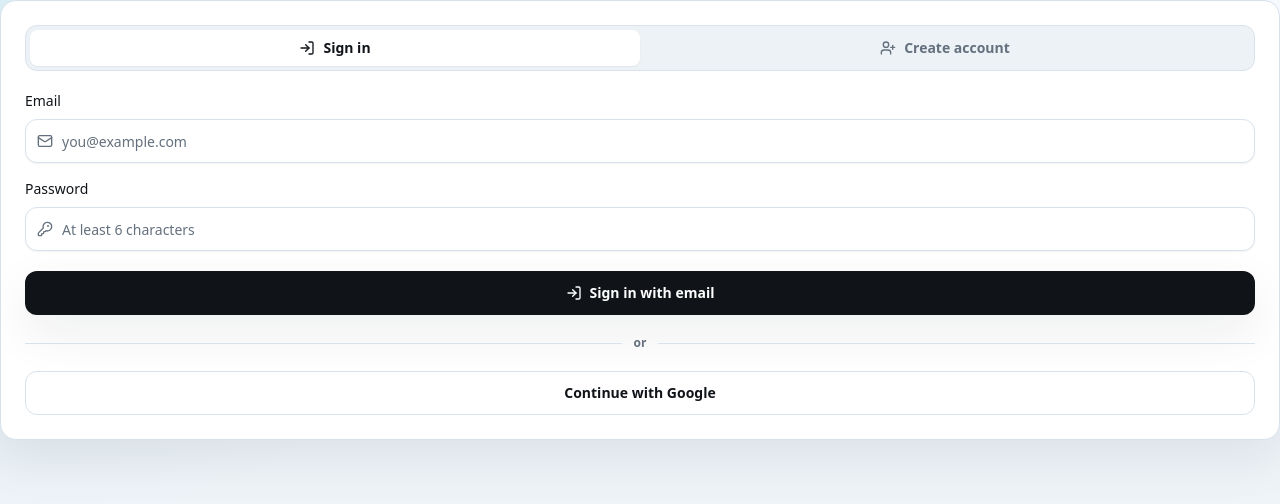
Test: AuthForm › renders email sign-in, email registration, and Google OAuth entry points
This screenshot has width=1280, height=504.
expect the field labelled "Email" is shown: met, box [25,119,1255,163]
expect the password field labelled "Password" is shown: met, box [25,207,1255,251]
Click the tab "Create account" at (945, 48), box [640,30,1250,66]
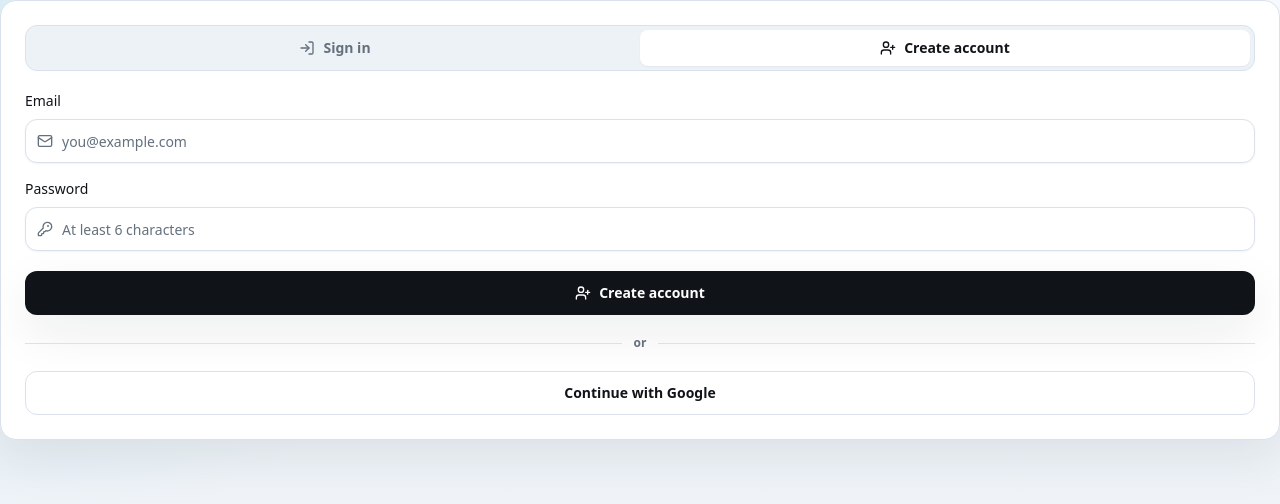
expect the button "Create account" is shown: met, box [25,271,1255,315]
